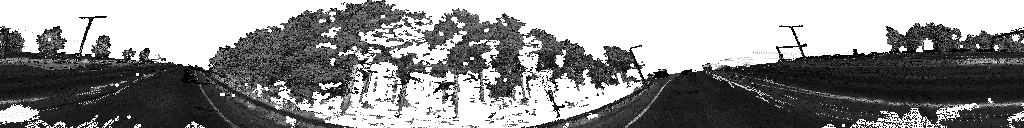gantry_sign_pole: (990, 27, 1023, 49), (0, 28, 9, 60)
light_pole: (75, 17, 106, 62), (779, 26, 807, 64), (629, 46, 645, 84), (776, 47, 793, 64)
traffic_pole: (539, 68, 560, 117)
